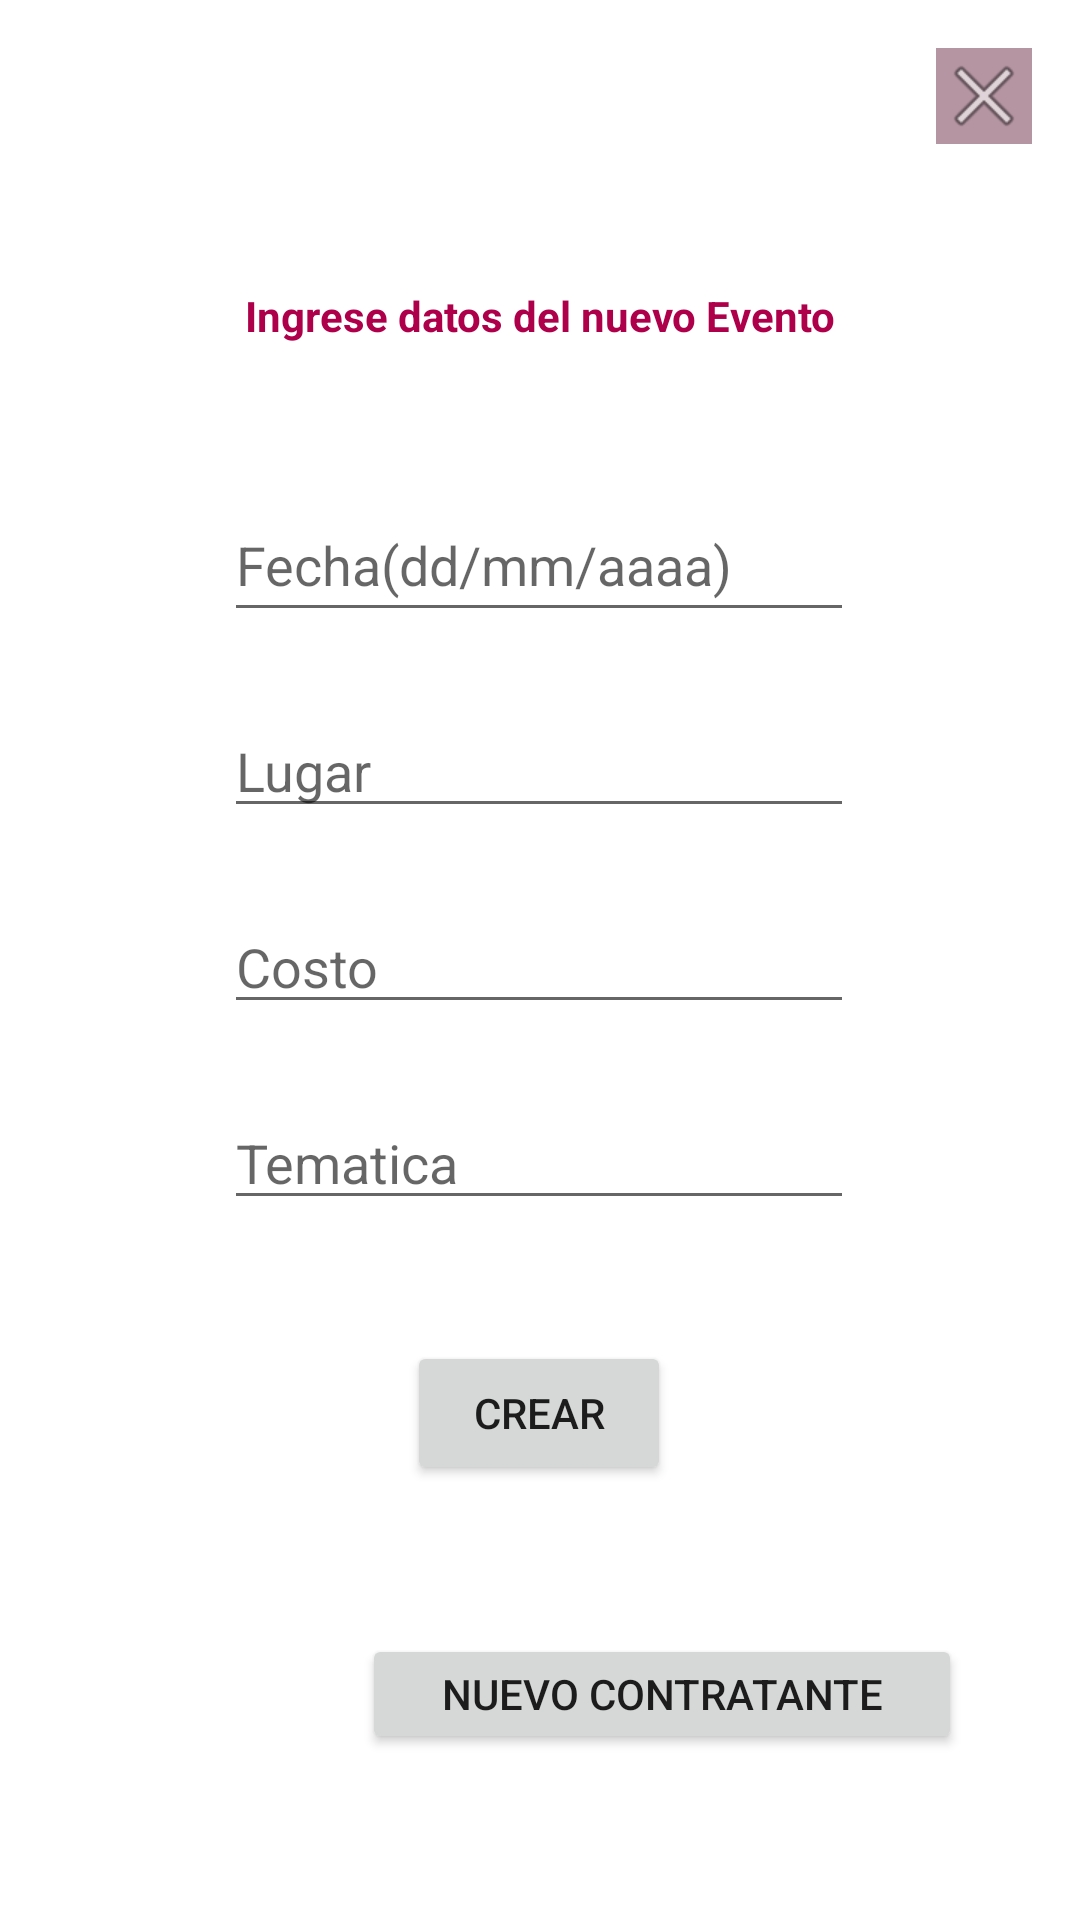

Icon click points for this 1080*1920 phone screenshot, format (x,y):
close clear cancel: (984,96)
